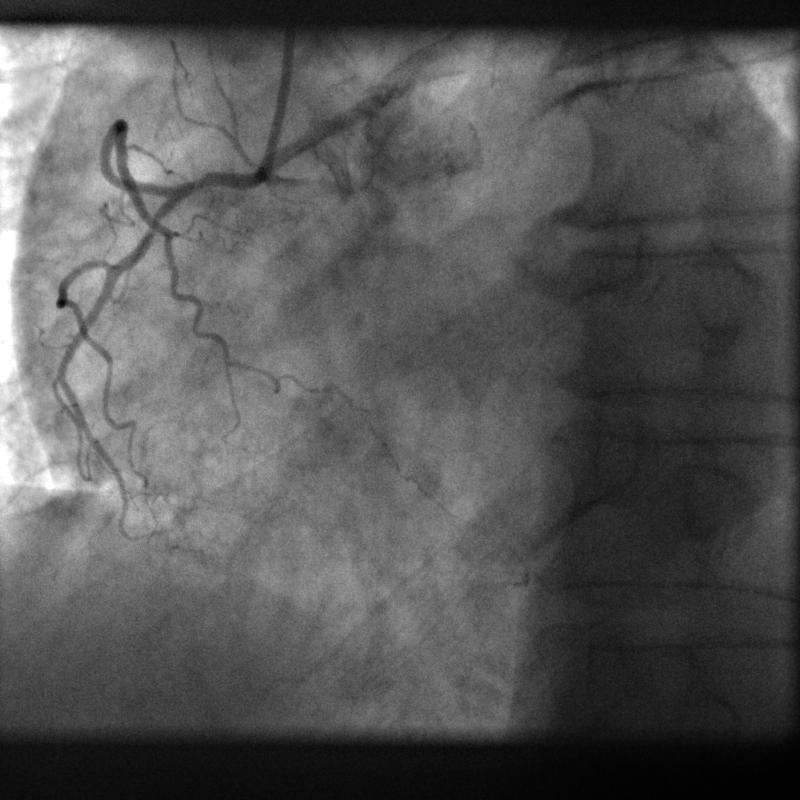Stenosis: (173, 169, 218, 199)
